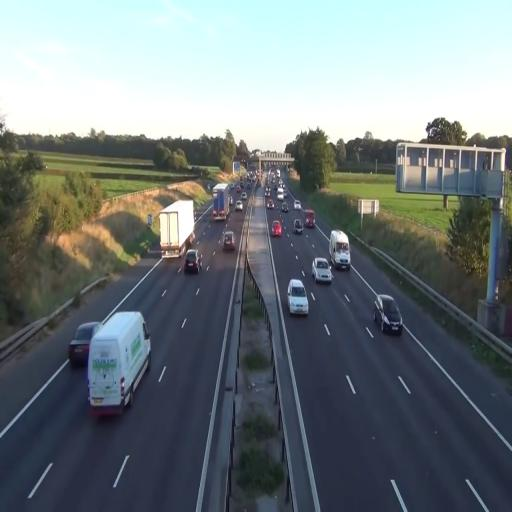vehicle: (87, 309, 152, 415), (160, 200, 196, 259), (68, 321, 101, 367), (375, 292, 402, 335), (287, 278, 309, 316), (330, 230, 350, 270), (211, 186, 230, 220), (312, 256, 333, 284), (184, 250, 200, 275), (220, 230, 236, 252), (292, 212, 304, 234), (304, 208, 315, 228), (272, 219, 282, 238)
